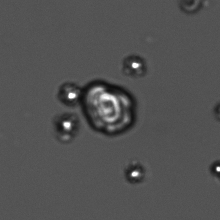Dead Cell: (178, 1, 203, 14)
Living Cell: (80, 76, 138, 137), (57, 81, 80, 107), (123, 54, 148, 77), (123, 160, 146, 183), (55, 114, 77, 138)
